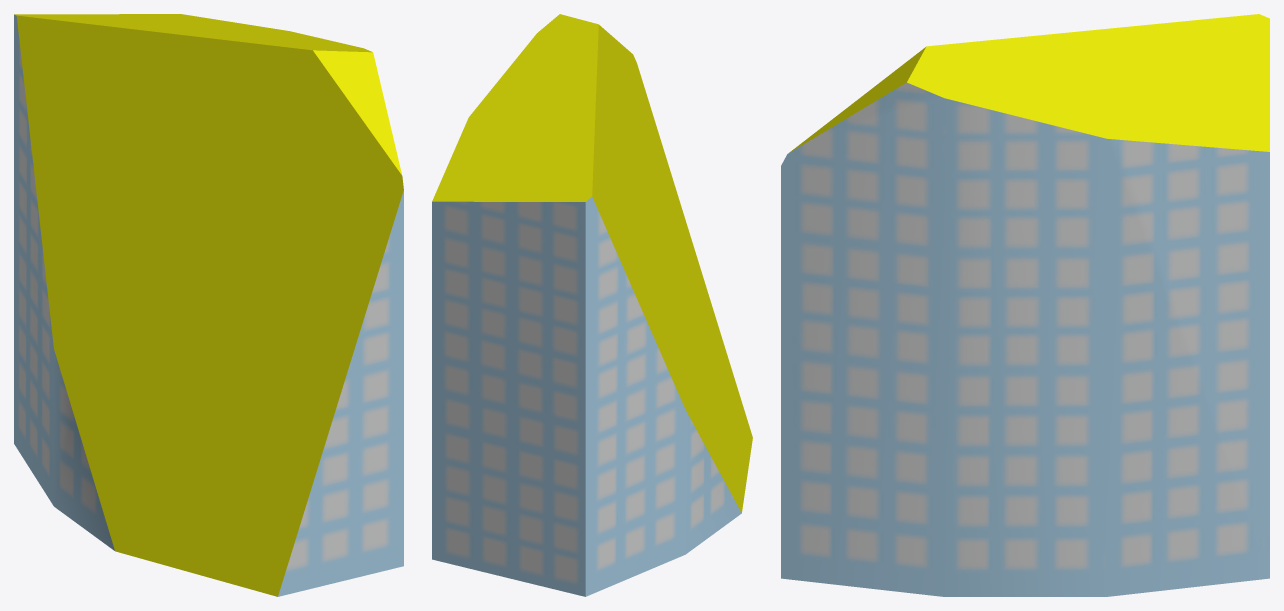
File: mShard5.fbx
The picture shows the model from 3 angles, left to right: view 1: azimuth 30°, elevation 25°; view 2: azimuth 150°, elevation 25°; view 3: azimuth 270°, elevation 25°; orthographic projection. The views are drawn at different scales.
Parts seen in each view (by area): view 1: shard35; view 2: shard35; view 3: shard35.
Part boxes in pixels (<box>): shard35: <box>14,14,403,596</box>; shard35: <box>432,14,752,596</box>; shard35: <box>781,14,1269,596</box>.
Bounding box in the file's own units: 0.1357 × 0.2603 × 0.2222.
2 materials, 1 textured.
